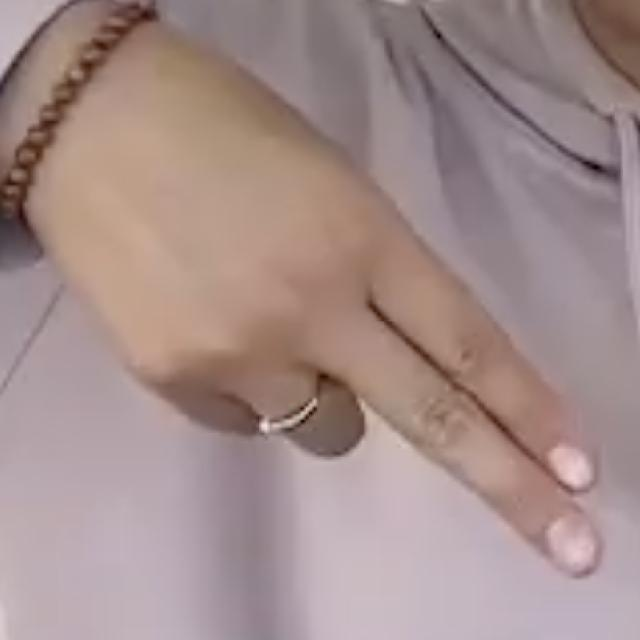N: (37, 15, 612, 592)
